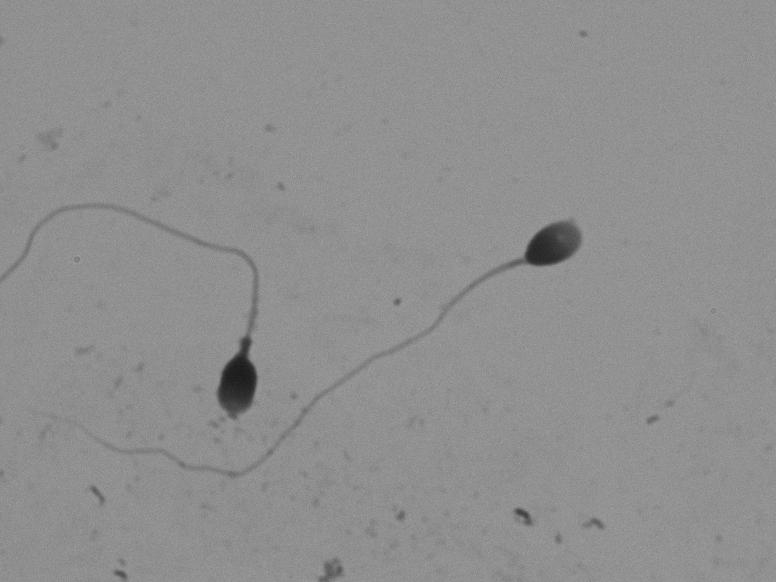Abnormal: (17, 182, 278, 419)
Normal: (295, 194, 662, 544)
